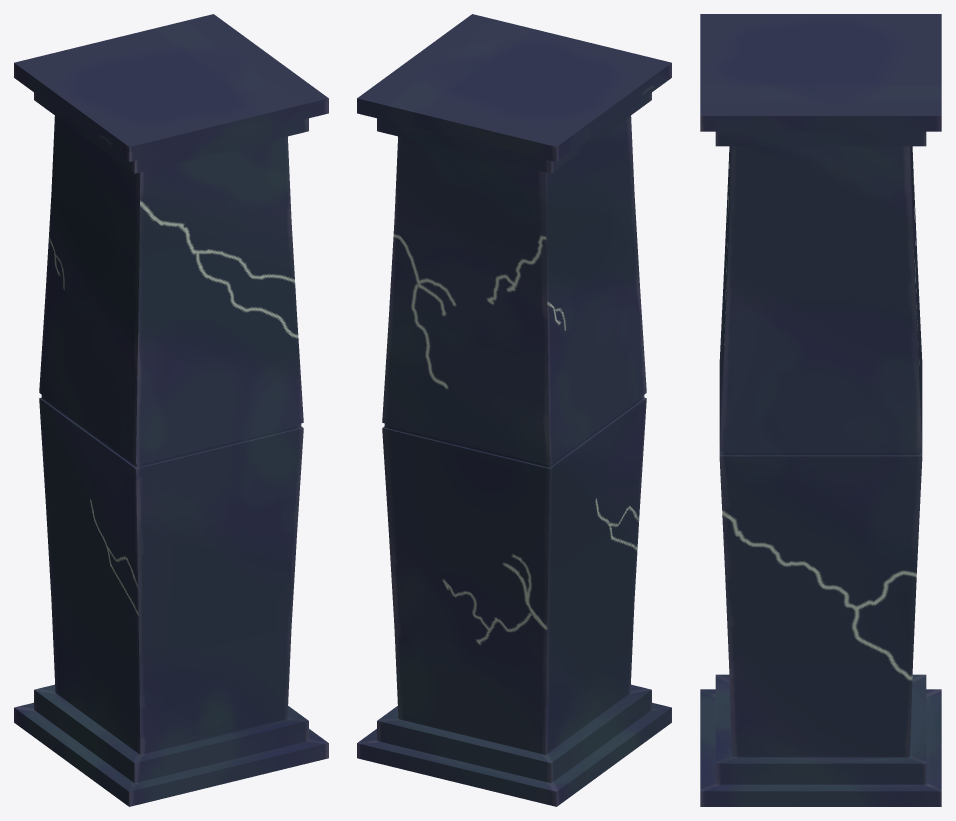
Rendered from Higher_Column.fbx.
3 views of the same model, side by side, from view 1: azimuth 30°, elevation 25°; view 2: azimuth 150°, elevation 25°; view 3: azimuth 270°, elevation 25° (orthographic). The views are drawn at different scales.
Parts seen in each view (by area): view 1: Cube; view 2: Cube; view 3: Cube.
Boxes of the visible parts, x1,y1,x2,y2 form: Cube: (14, 14, 328, 806); Cube: (357, 14, 671, 806); Cube: (700, 14, 941, 806).
Bounding box in the file's own units: 190 × 600 × 190.
1 material, 1 textured.
